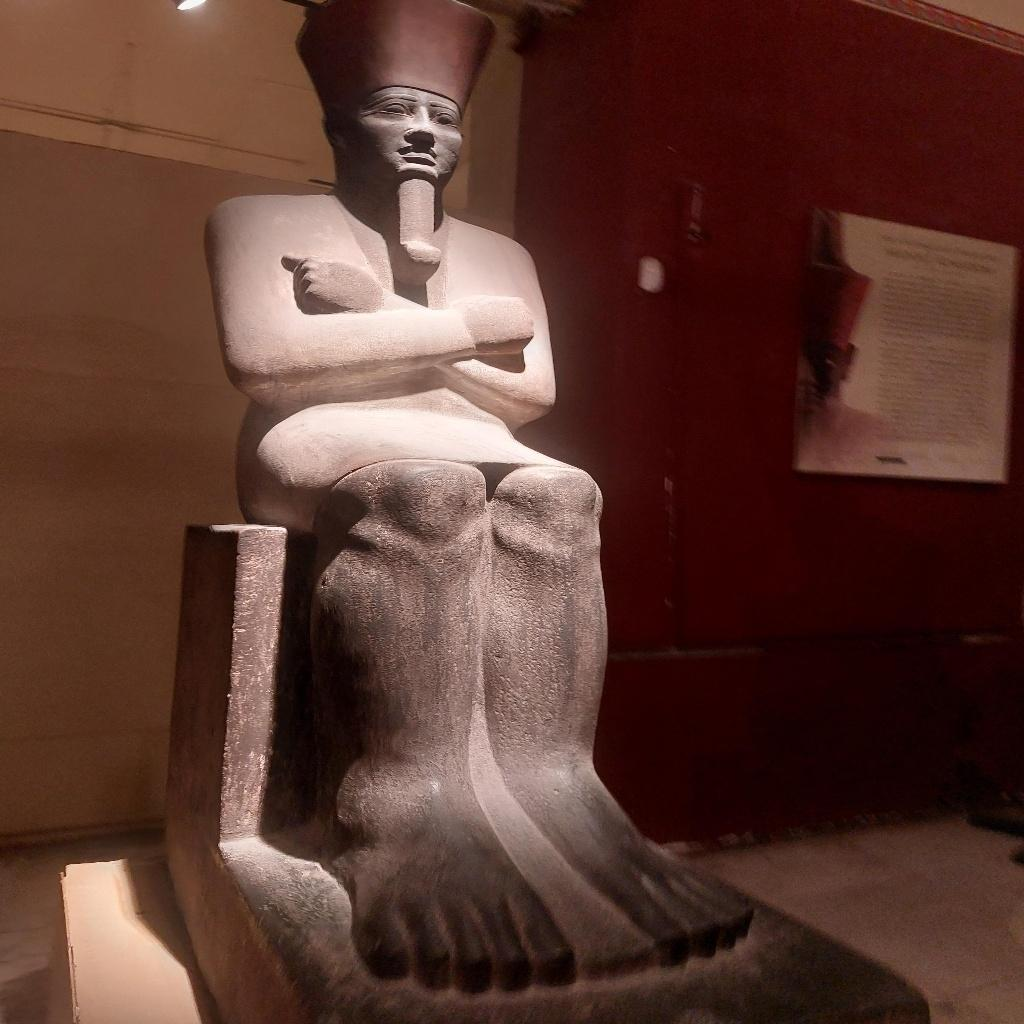Mentuhotep Nebhetpre: (197, 2, 757, 1002)
